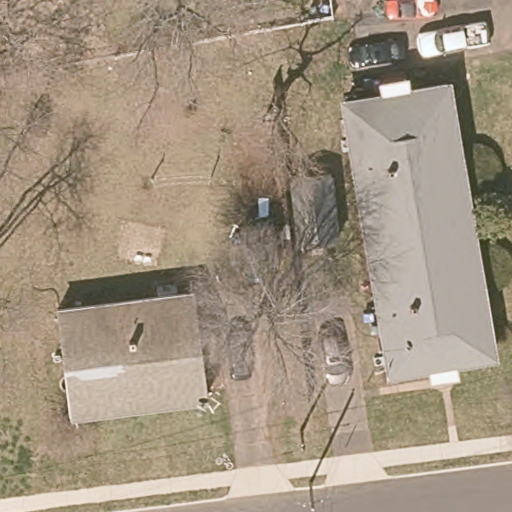DT: (296, 479, 324, 512)
